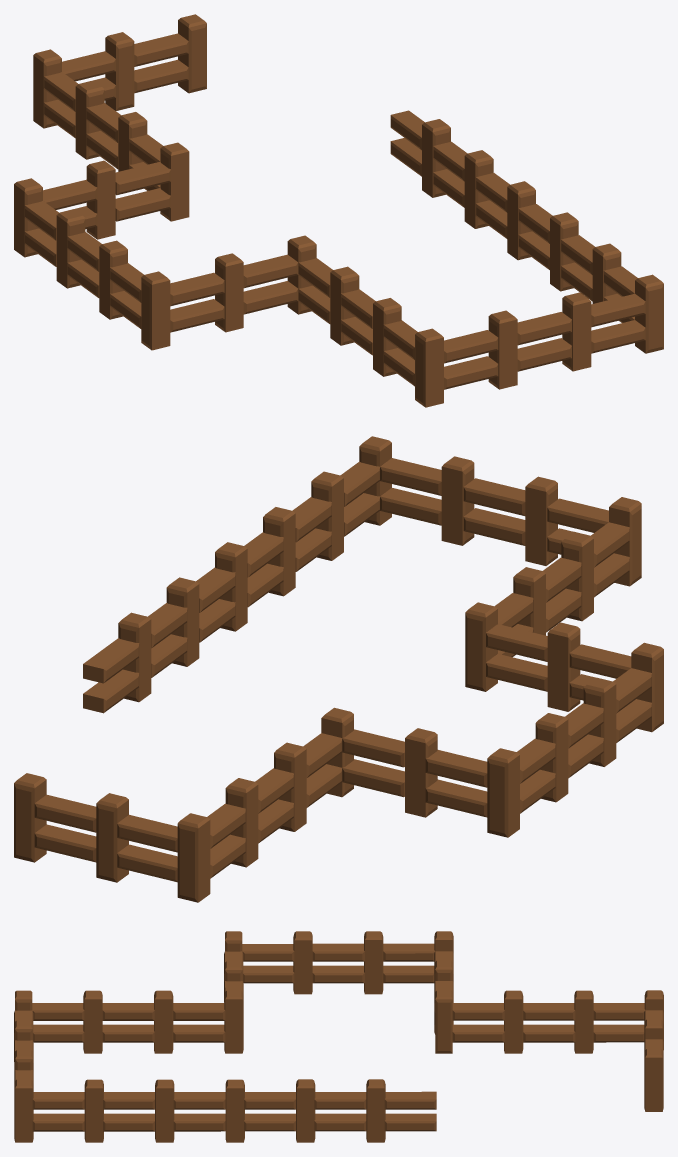
The model's file is Fences.fbx.
3 views of the same model, one above another, from view 1: azimuth 30°, elevation 25°; view 2: azimuth 150°, elevation 25°; view 3: azimuth 270°, elevation 25° (orthographic). The views are drawn at different scales.
Parts seen in each view (by area): view 1: Cube.142; view 2: Cube.142; view 3: Cube.142.
Boxes of the visible parts, x1,y1,x2,y2 form: Cube.142: [14, 14, 663, 407]; Cube.142: [14, 436, 663, 902]; Cube.142: [14, 931, 663, 1142].
Bounding box in the file's own units: 329 × 55.29 × 578.
